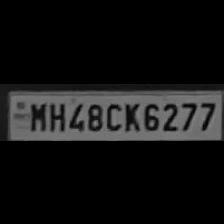2: (160, 98, 178, 132)
4: (66, 98, 84, 132)
6: (139, 98, 159, 132)
7: (196, 99, 216, 131), (178, 99, 196, 131)
8: (84, 98, 102, 132)
C: (103, 98, 121, 132)
H: (46, 98, 64, 132)
K: (121, 98, 139, 132)
M: (26, 98, 46, 132)
